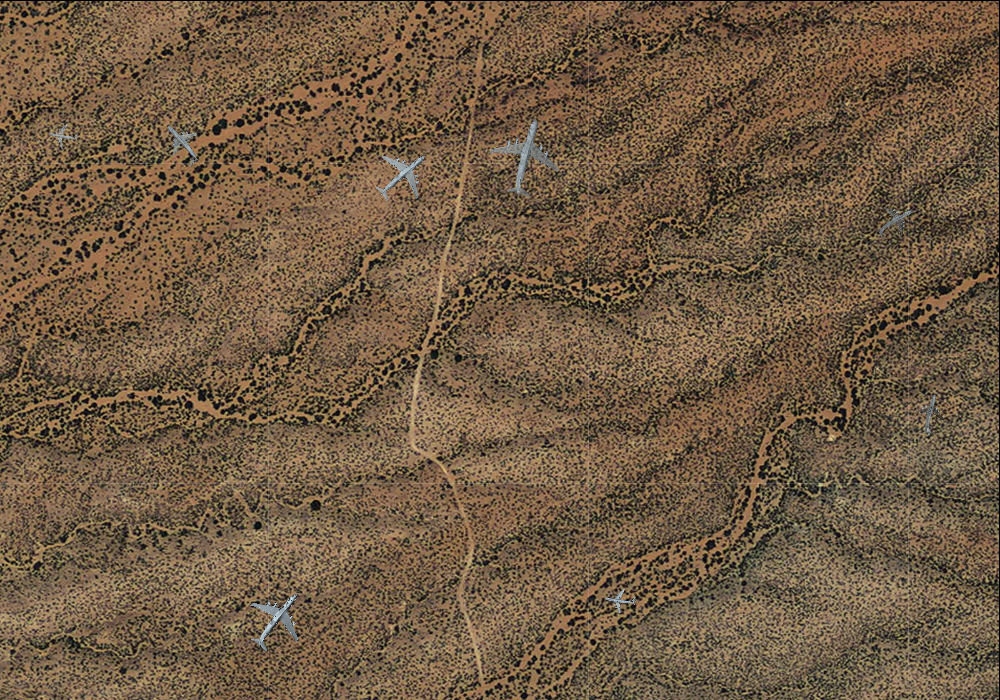plane: (479, 108, 573, 205), (232, 576, 321, 665), (361, 135, 443, 215), (150, 113, 212, 175), (868, 194, 923, 249), (908, 389, 955, 440), (45, 118, 80, 152), (603, 584, 638, 616)
